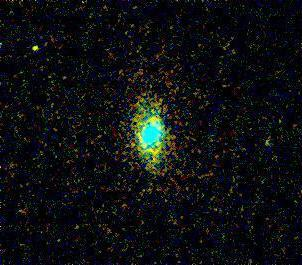star: (22, 38, 52, 68)
